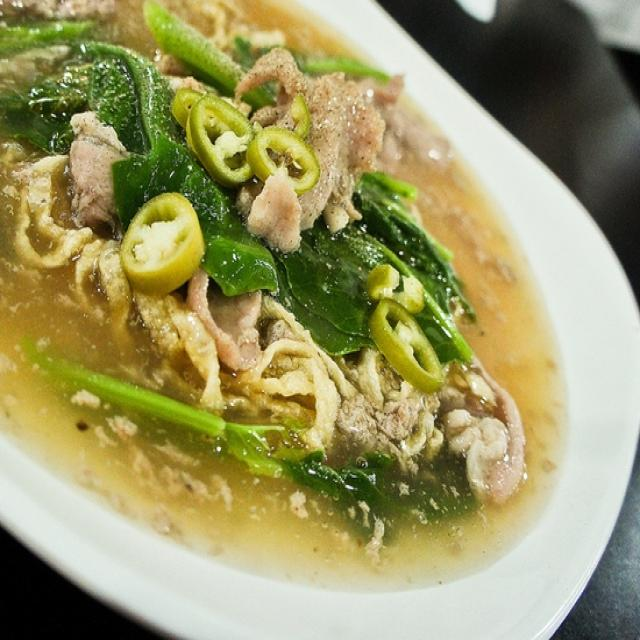面条主食: (9, 19, 591, 614)
